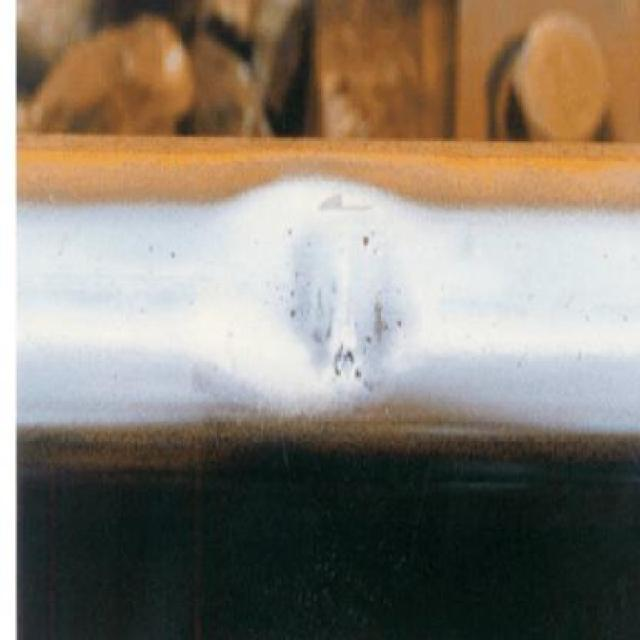defective: (206, 148, 442, 442)
